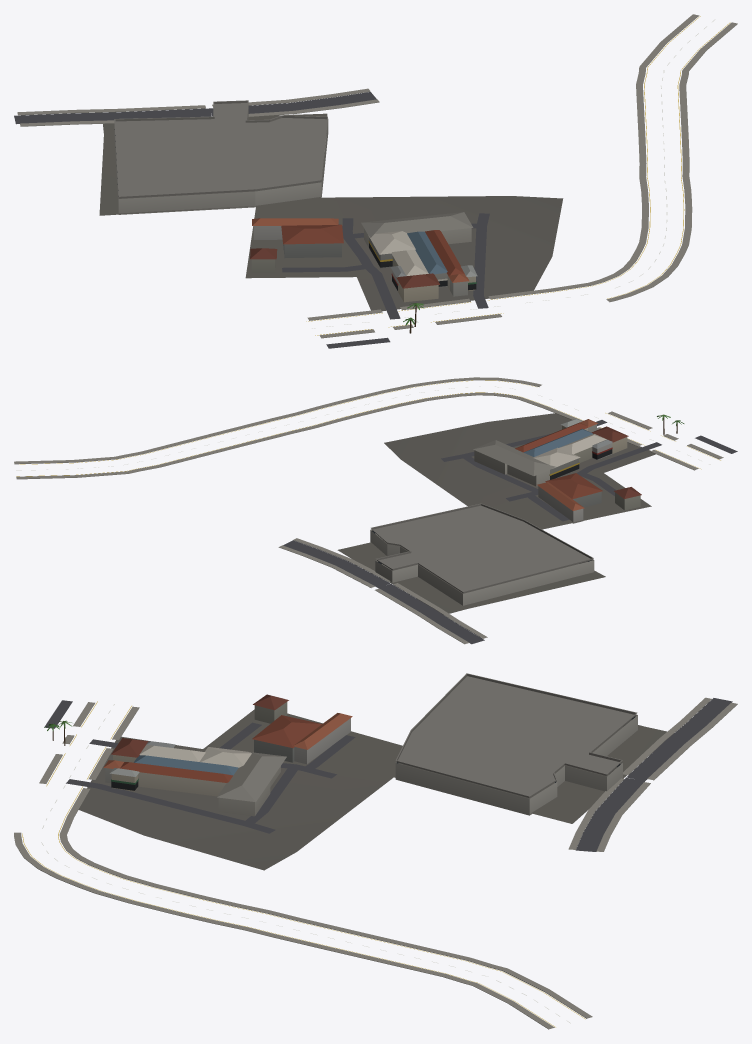
The picture shows the model from 3 angles, top to bottom: view 1: azimuth 30°, elevation 25°; view 2: azimuth 150°, elevation 25°; view 3: azimuth 270°, elevation 25°; orthographic projection. The views are drawn at different scales.
Parts seen in each view (by area): view 1: Buildings__r-4c3-col, Landuse__r-4c3, Sidewalks__r-4c3-col, Roads_Minor__r-4c3, Markings__r-4c3; view 2: Buildings__r-4c3-col, Landuse__r-4c3, Sidewalks__r-4c3-col, Roads_Minor__r-4c3, Markings__r-4c3; view 3: Buildings__r-4c3-col, Landuse__r-4c3, Sidewalks__r-4c3-col, Roads_Minor__r-4c3, Markings__r-4c3.
Part boxes in pixels (bbox=[...]): Buildings__r-4c3-col: bbox=[114, 100, 477, 302]; Landuse__r-4c3: bbox=[99, 113, 563, 311]; Sidewalks__r-4c3-col: bbox=[17, 14, 737, 338]; Roads_Minor__r-4c3: bbox=[14, 92, 489, 348]; Markings__r-4c3: bbox=[306, 16, 730, 335]; Buildings__r-4c3-col: bbox=[370, 418, 641, 605]; Landuse__r-4c3: bbox=[337, 413, 655, 613]; Sidewalks__r-4c3-col: bbox=[14, 377, 723, 644]; Roads_Minor__r-4c3: bbox=[283, 420, 737, 644]; Markings__r-4c3: bbox=[16, 380, 720, 476]; Buildings__r-4c3-col: bbox=[103, 673, 637, 816]; Landuse__r-4c3: bbox=[78, 709, 670, 870]; Sidewalks__r-4c3-col: bbox=[14, 697, 737, 1029]; Roads_Minor__r-4c3: bbox=[44, 698, 732, 851]; Markings__r-4c3: bbox=[22, 701, 585, 1027].
Bounding box in the file's own units: 292 × 10.28 × 257.
